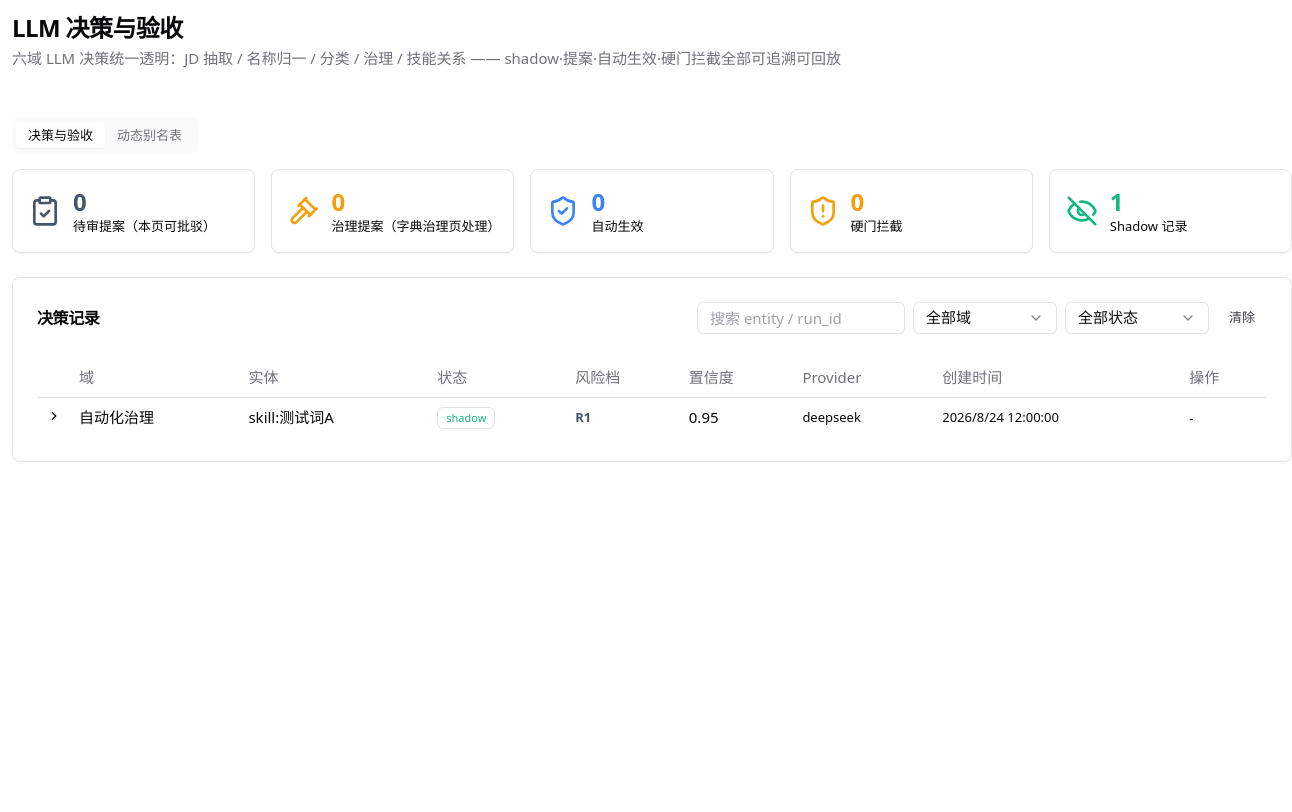
Scenario: AdminLlmDecisionsPage 详情展开 › 未知动作组合回退为通用字段展示（不渲染影响小节）
This screenshot has width=1292, height=812.
Check: the text "skill:测试词A" is shown, box left=248, top=407, right=334, bottom=427
Click the button named "展开详情" at (54, 416), box left=45, top=407, right=63, bottom=425
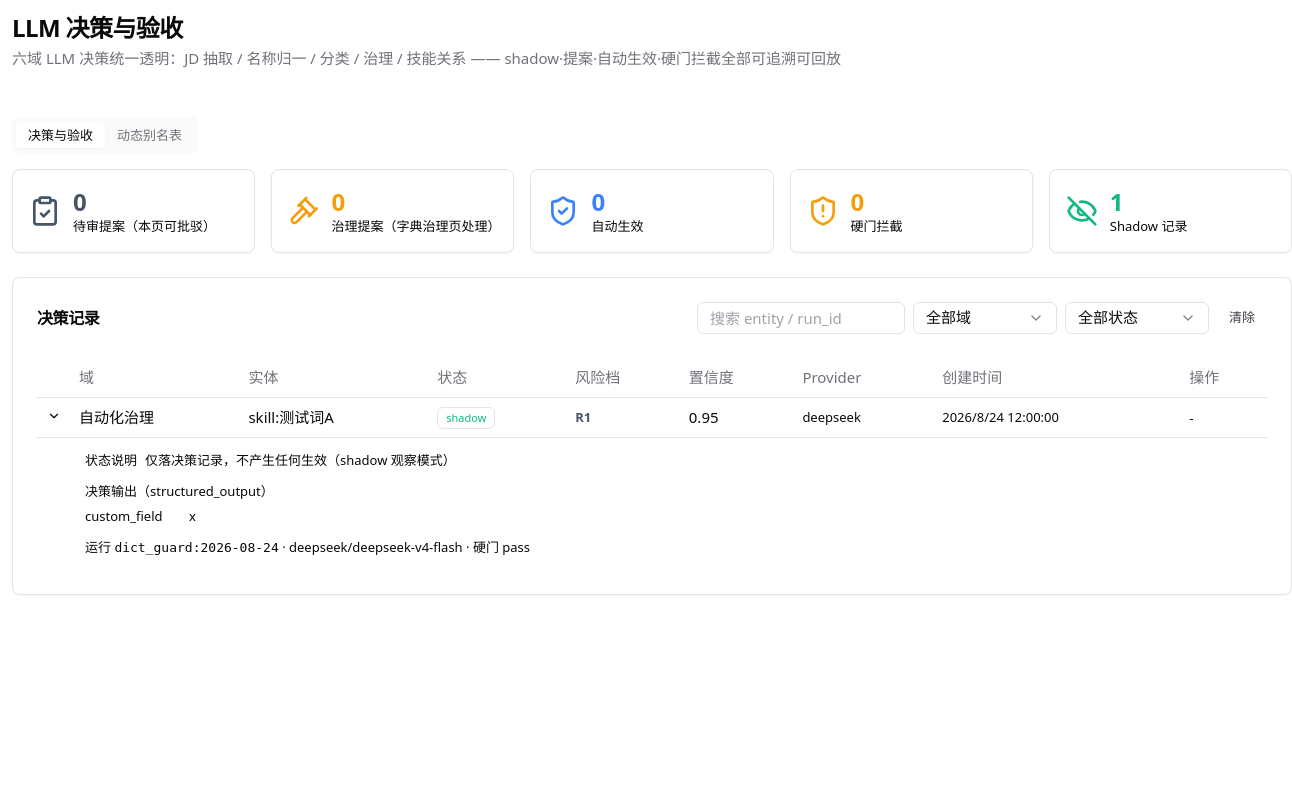
Check: the text "决策输出（structured_output）" is shown, box left=85, top=482, right=274, bottom=500
Check: the text "x" is shown, box left=189, top=507, right=196, bottom=525
